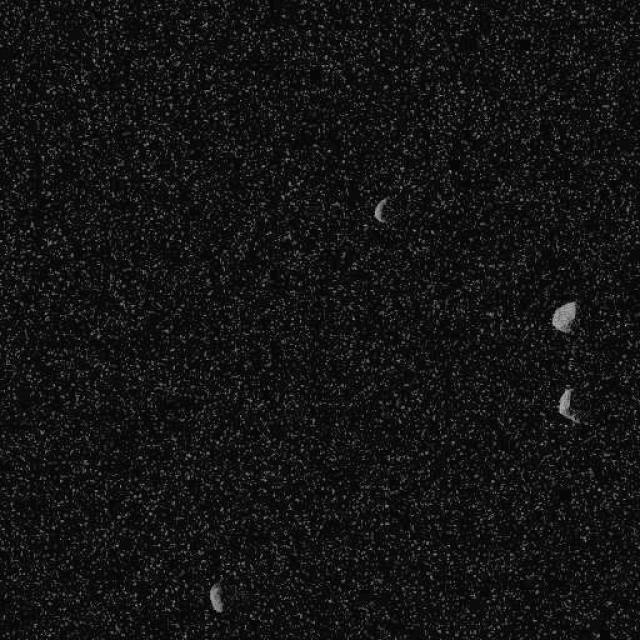D2: (556, 386, 582, 425), (550, 300, 578, 334), (208, 580, 224, 612), (371, 196, 389, 224)
